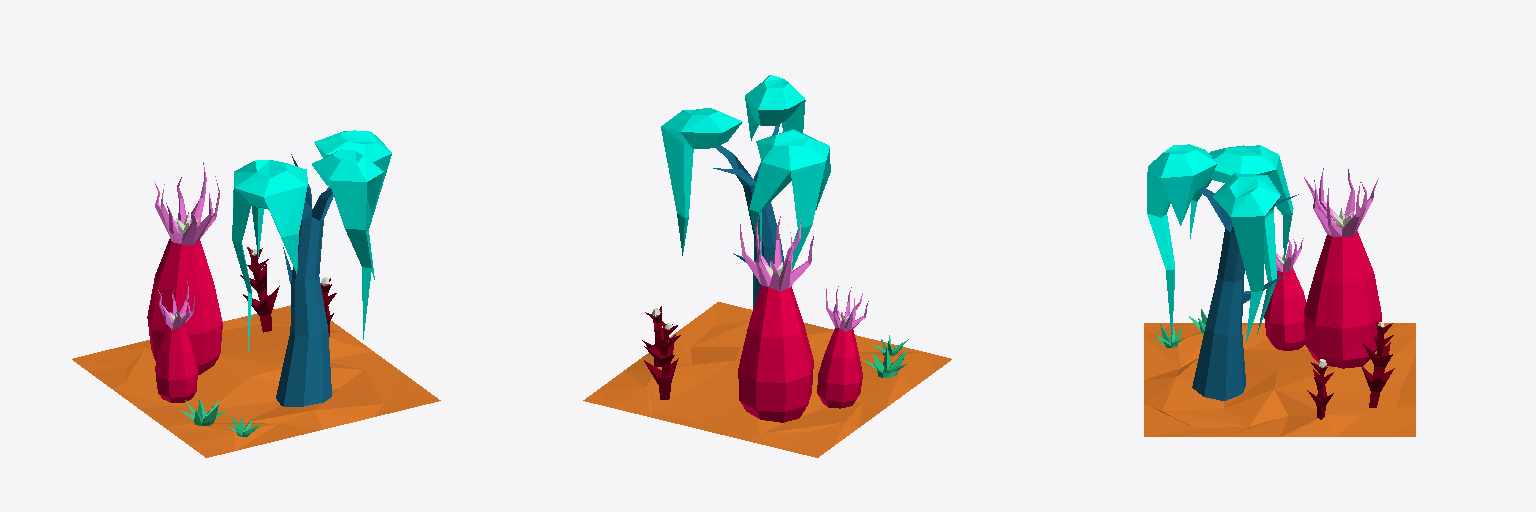
3 views of the same model, side by side, from view 1: azimuth 30°, elevation 25°; view 2: azimuth 150°, elevation 25°; view 3: azimuth 270°, elevation 25° (orthographic).
Visible parts, largest first — view 1: Circle.002_Circle.001; view 2: Circle.002_Circle.001; view 3: Circle.002_Circle.001.
Boxes of the visible parts, x1=… form: Circle.002_Circle.001: x1=72, y1=130, x2=440, y2=457; Circle.002_Circle.001: x1=583, y1=75, x2=951, y2=457; Circle.002_Circle.001: x1=1144, y1=144, x2=1415, y2=436.
Size of the model in its own units: 2 by 2.09 by 2.
Materials: 1 (1 with a texture image).